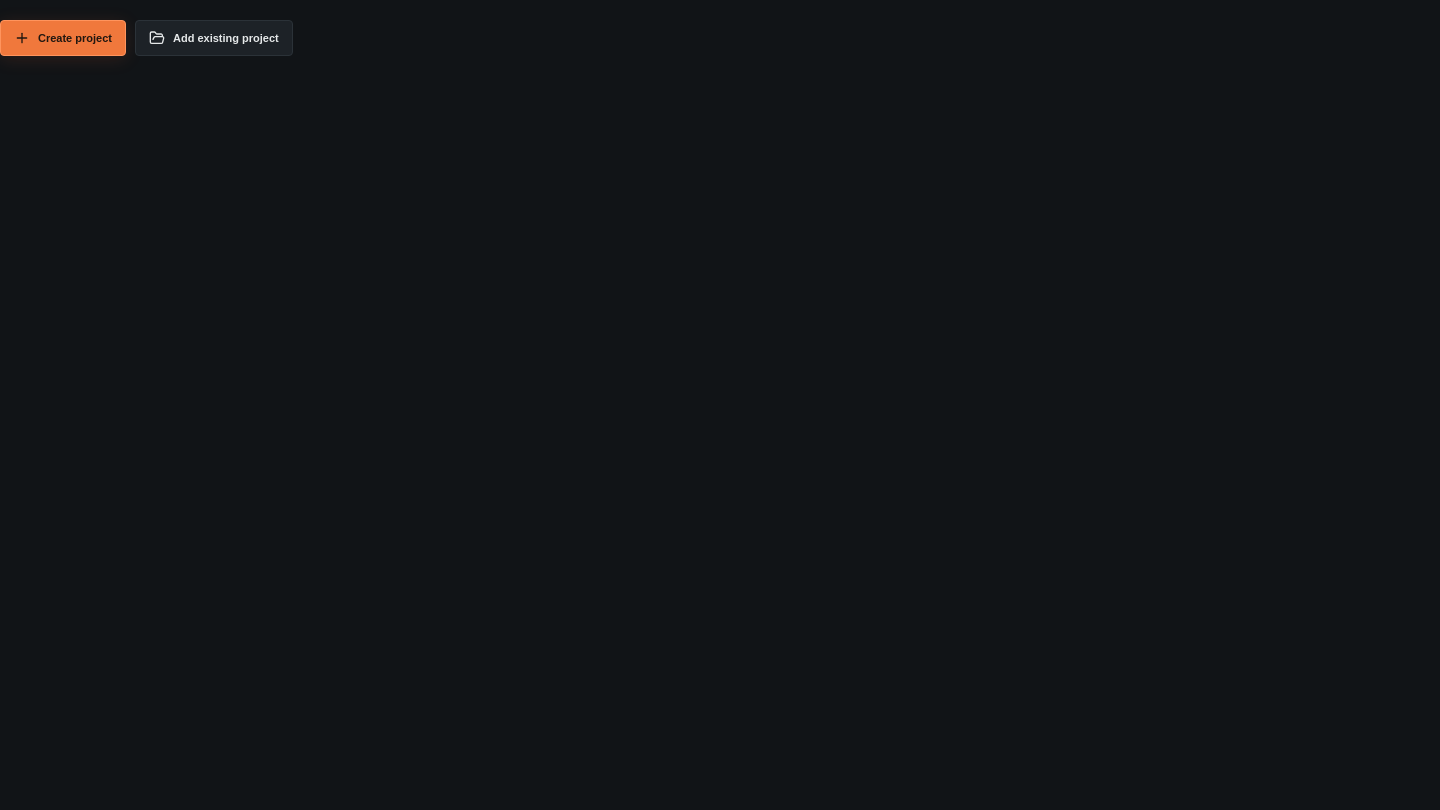
Test case: Project workflows › shows the shared folder suggestion and creates with only selected installed MCP servers
Later steps or results of the test are not shown.
Click the button "Create project": (63, 38) 0,20 -> 126,56
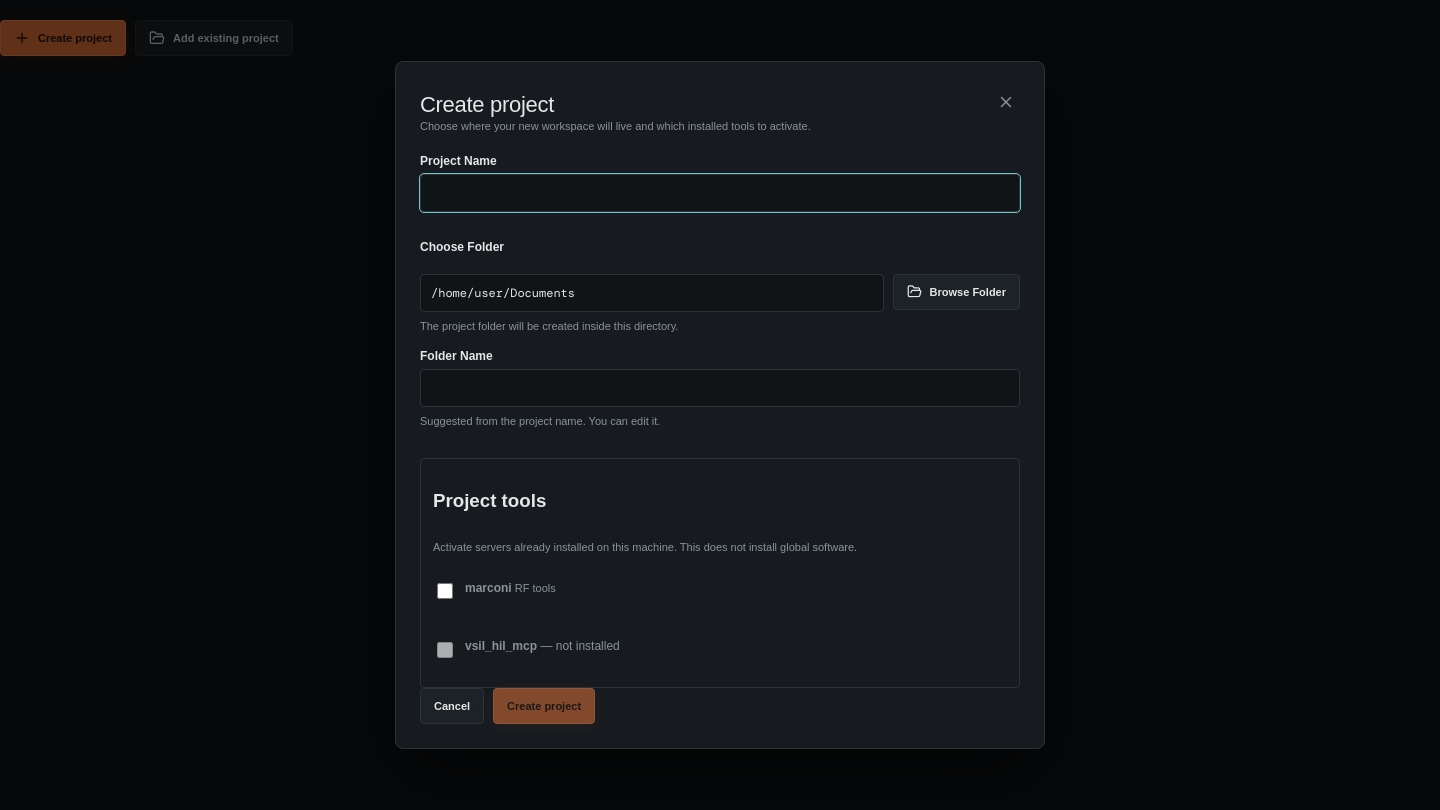
expect the checkbox labelled "marconi RF tools" is shown: met, box 437,583 -> 453,599
expect the checkbox labelled "vsil_hil_mcp — not installed" is disabled: met, box 437,642 -> 453,658
expect the field labelled "Choose Folder" holds "/home/user/Documents": met, box 420,274 -> 884,312
In the field labelled "Project name": (720, 193) 420,174 -> 1020,212, type "Mi laboratorio"
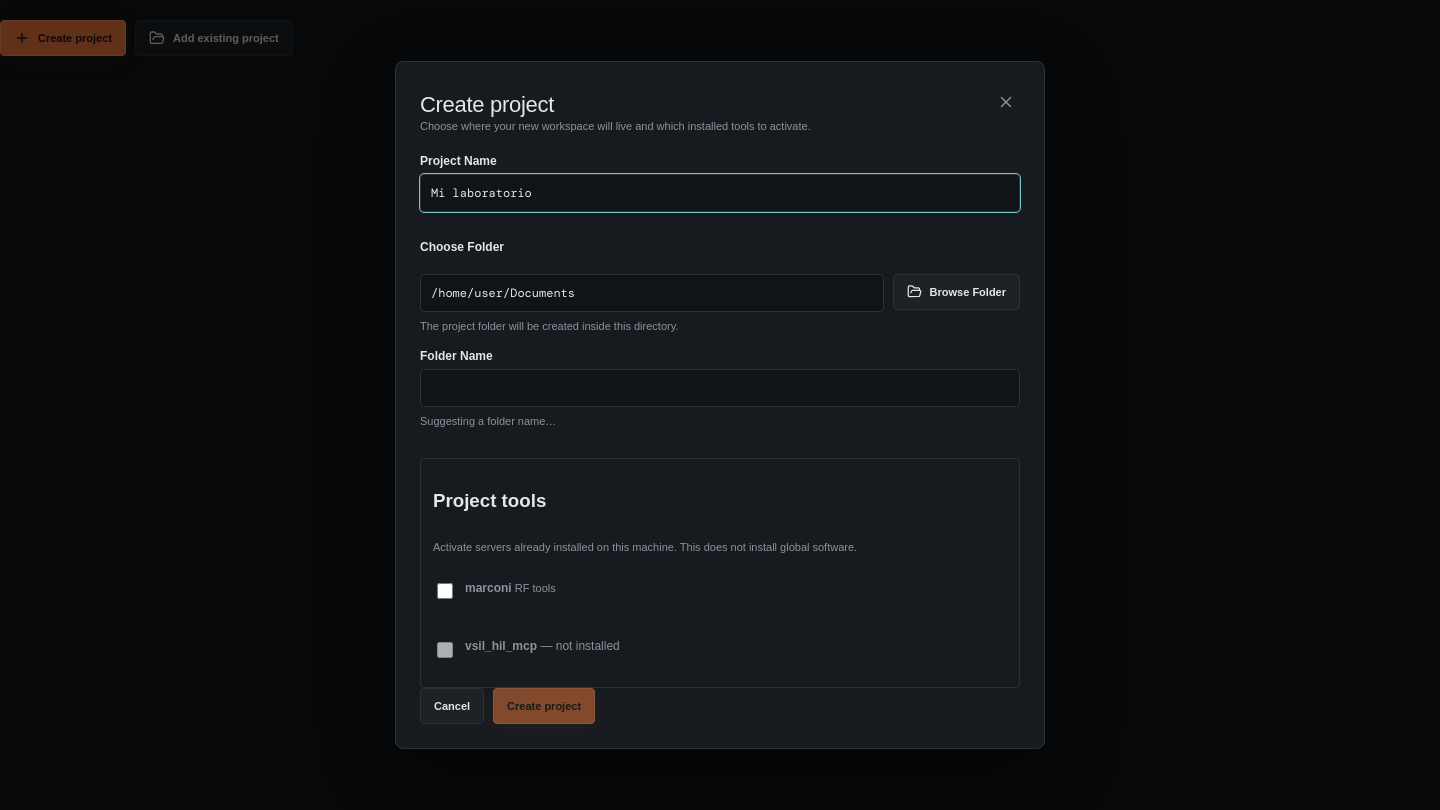
Replace the text in the field labelled "Choose Folder" with "/projects": (652, 293) 420,274 -> 884,312
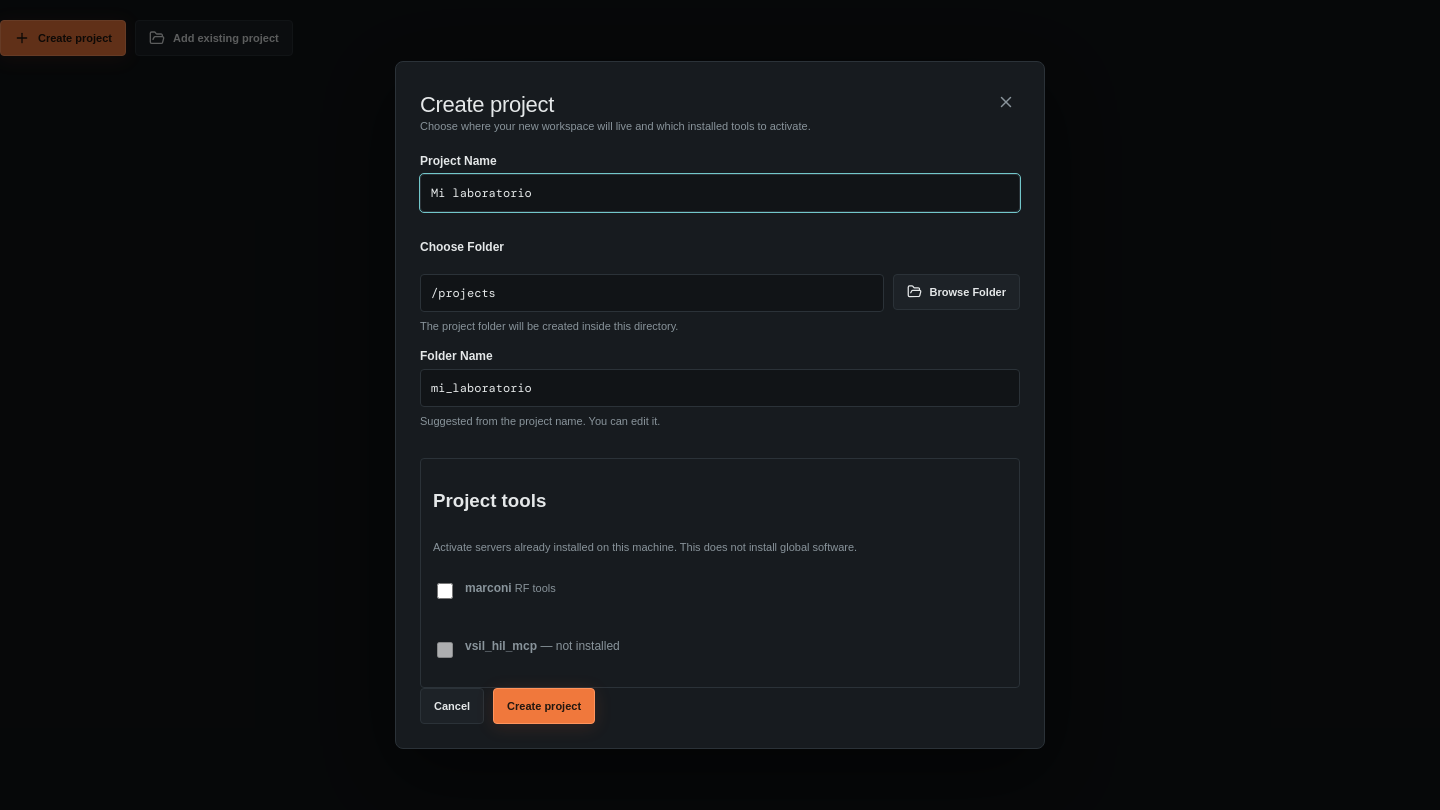
expect the field labelled "Folder name" holds "mi_laboratorio": met, box 420,369 -> 1020,407
